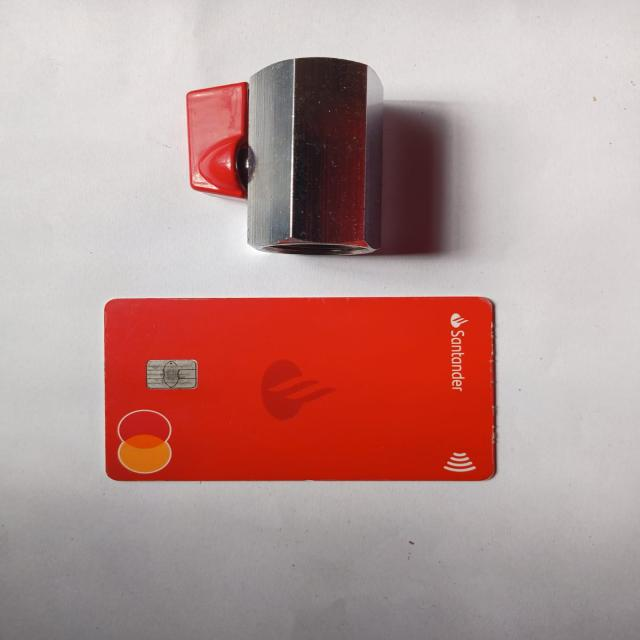cartao: (106, 296, 496, 482)
rosca_interna: (186, 58, 387, 258)
